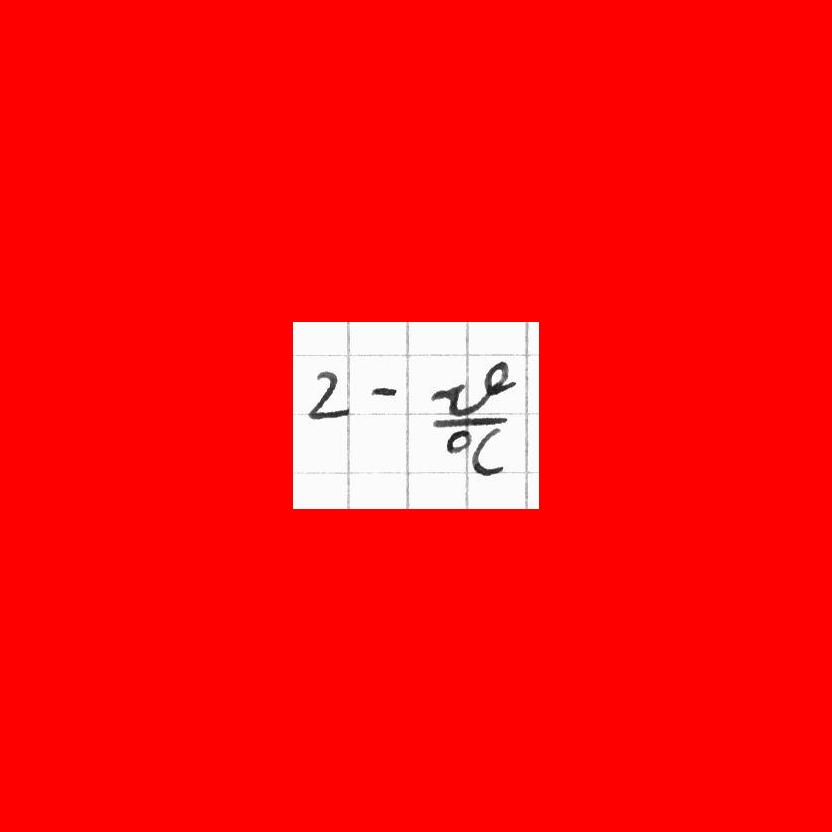Char: (425, 357, 514, 415), (306, 367, 352, 423), (469, 425, 511, 475), (428, 411, 510, 430), (442, 426, 475, 453), (368, 380, 404, 402)
